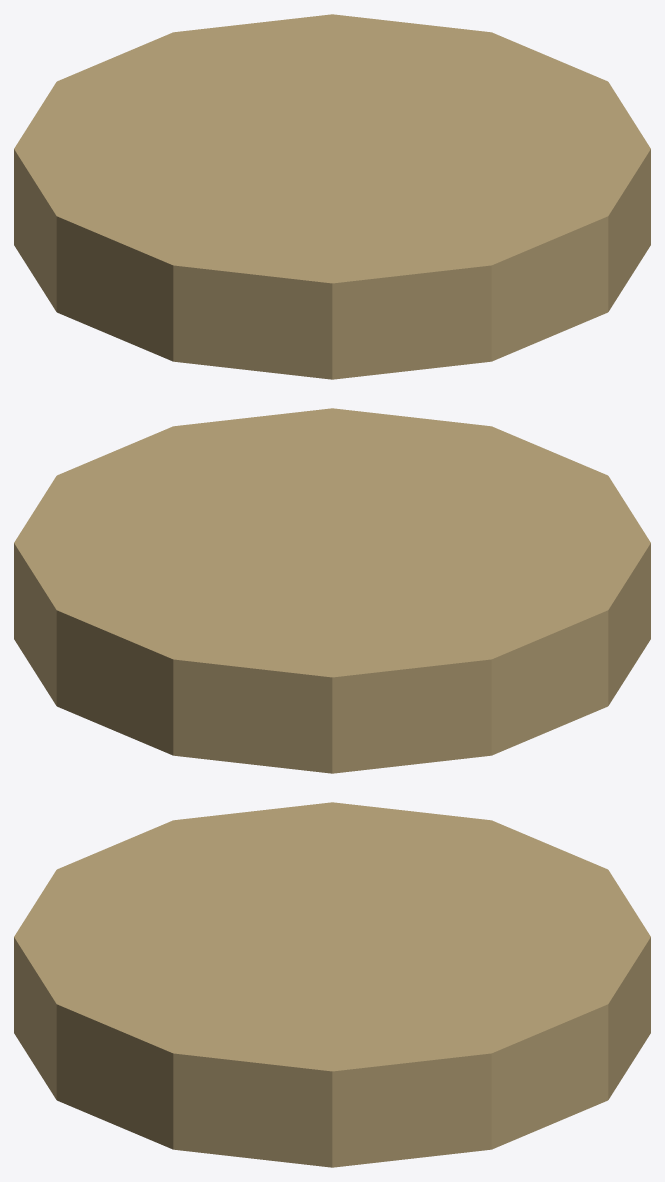
File: focus.glb
3 views of the same model, one above another, from view 1: azimuth 30°, elevation 25°; view 2: azimuth 150°, elevation 25°; view 3: azimuth 270°, elevation 25° (orthographic).
Parts seen in each view (by area): view 1: focus; view 2: focus; view 3: focus.
Boxes of the visible parts, box(x1,y1,x2,y2) form: focus: box(14, 14, 650, 379); focus: box(14, 408, 650, 773); focus: box(14, 802, 650, 1167).
Size of the model in its own units: 0.24 by 0.04 by 0.24.
